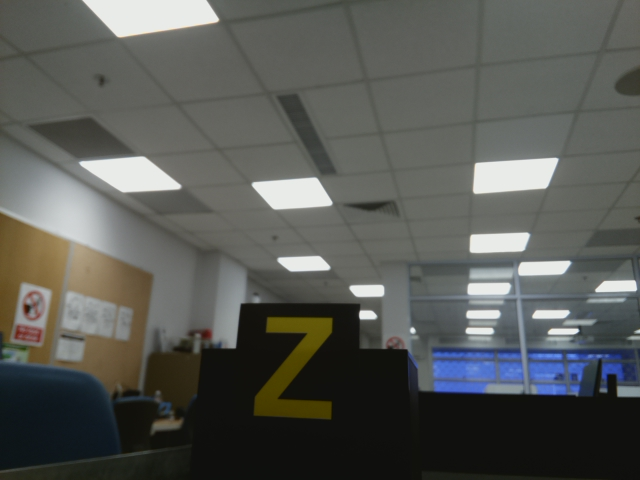z: (249, 310, 341, 425)
